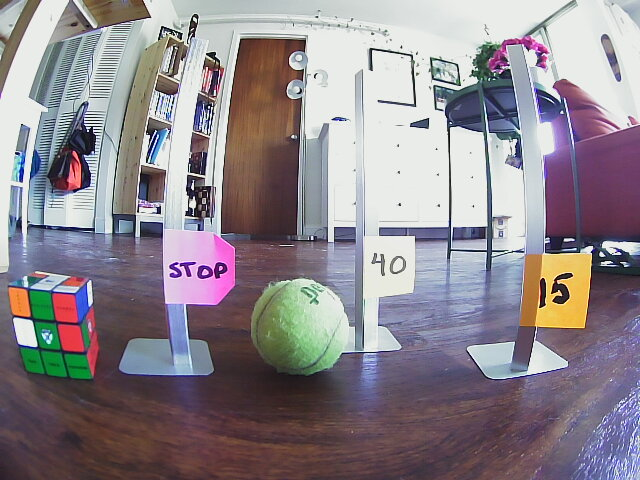15: (525, 255, 586, 328)
40: (363, 238, 414, 294)
ball: (254, 280, 351, 373)
cube: (9, 275, 99, 377)
stop: (165, 233, 230, 300)
